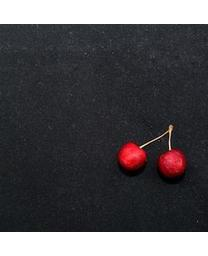cherry: (117, 142, 147, 171), (158, 149, 185, 177)
